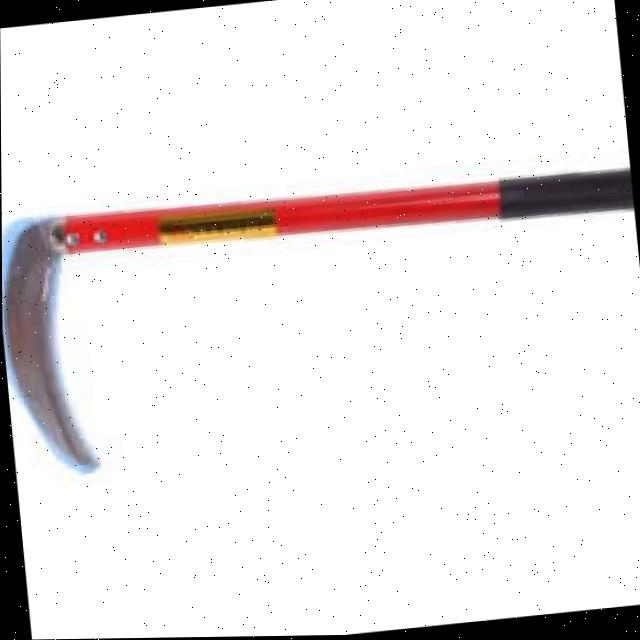sickle: (0, 45, 640, 490)
